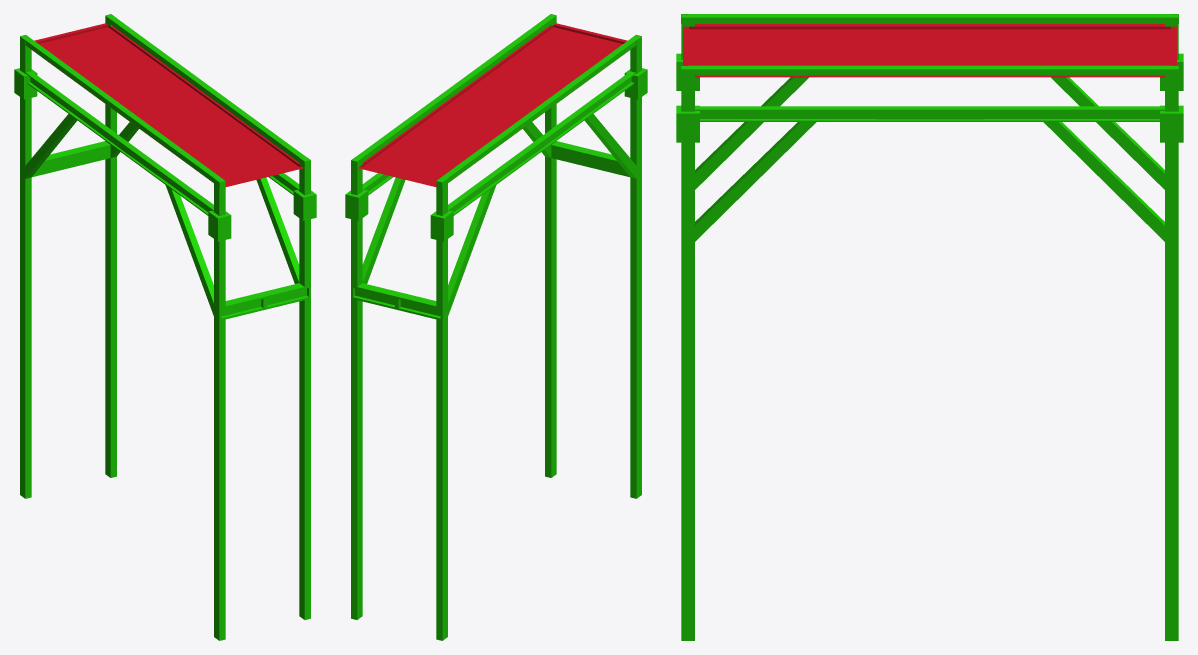
The model's file is Scaffolds.fbx.
3 renders of one model, left to right at view 1: azimuth 30°, elevation 25°; view 2: azimuth 150°, elevation 25°; view 3: azimuth 270°, elevation 25°, orthographic. The views are drawn at different scales.
Visible parts, largest first — view 1: Plane.001; view 2: Plane.001; view 3: Plane.001.
Boxes of the visible parts, x1,y1,x2,y2 form: Plane.001: [14, 14, 316, 640]; Plane.001: [345, 14, 647, 640]; Plane.001: [676, 14, 1183, 640].
Bounding box in the file's own units: 637 × 2828 × 2276.
